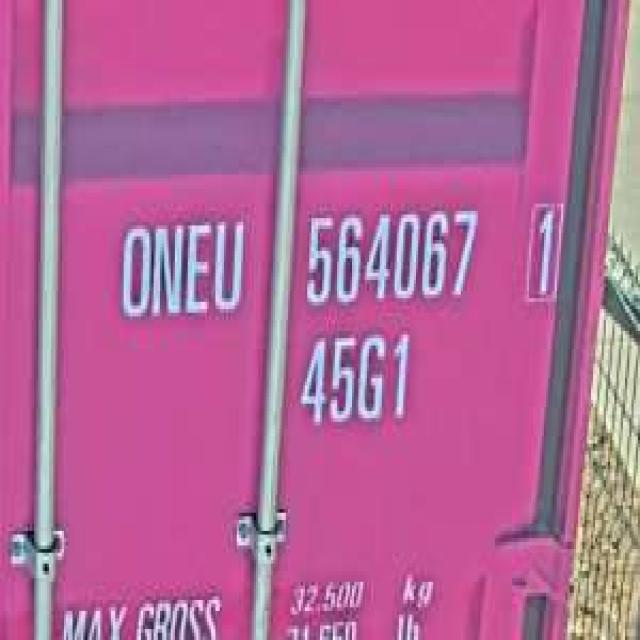dv: (522, 188, 568, 306)
owner: (111, 207, 250, 331)
serial: (299, 200, 484, 313)
size: (294, 328, 414, 437)
